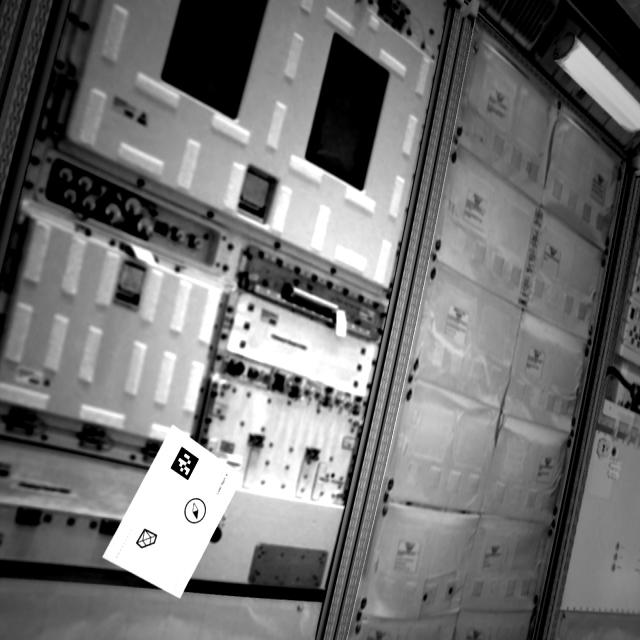compass: (184, 497, 207, 526)
diamond: (136, 529, 160, 549)
